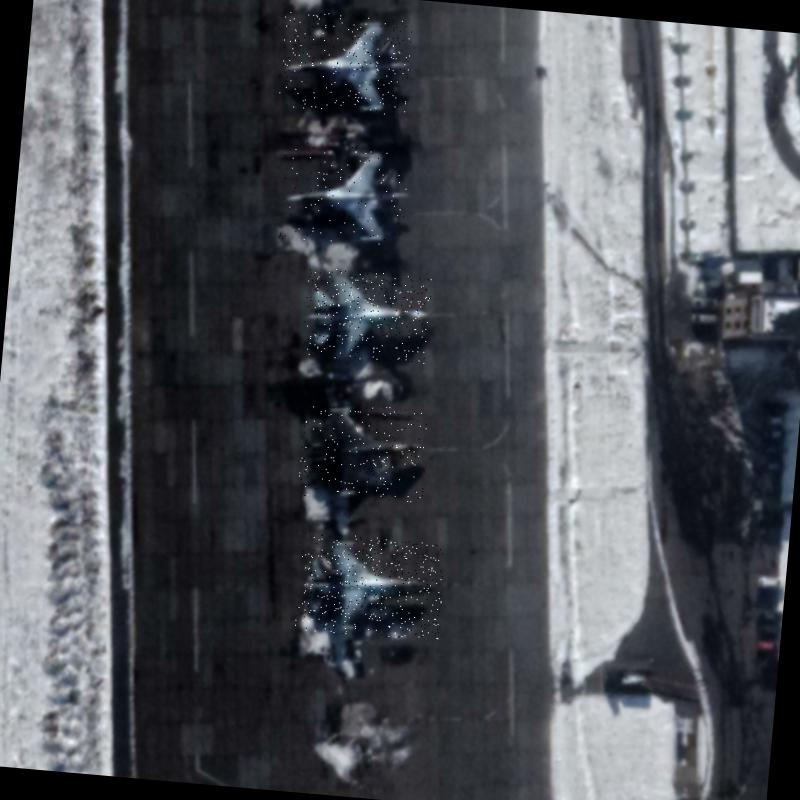A1: (294, 531, 446, 642), (277, 9, 413, 118), (278, 140, 410, 250), (297, 400, 430, 508), (301, 267, 432, 366)
